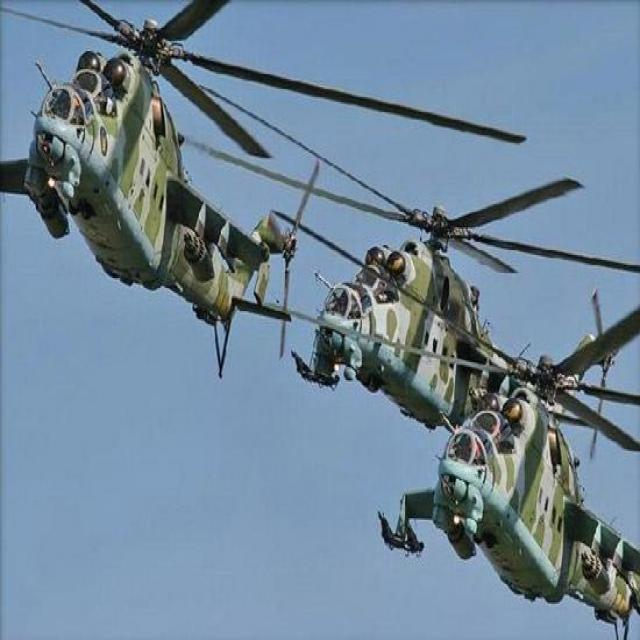MIL_HELO: (20, 0, 535, 336), (236, 175, 598, 439), (392, 307, 640, 630)
